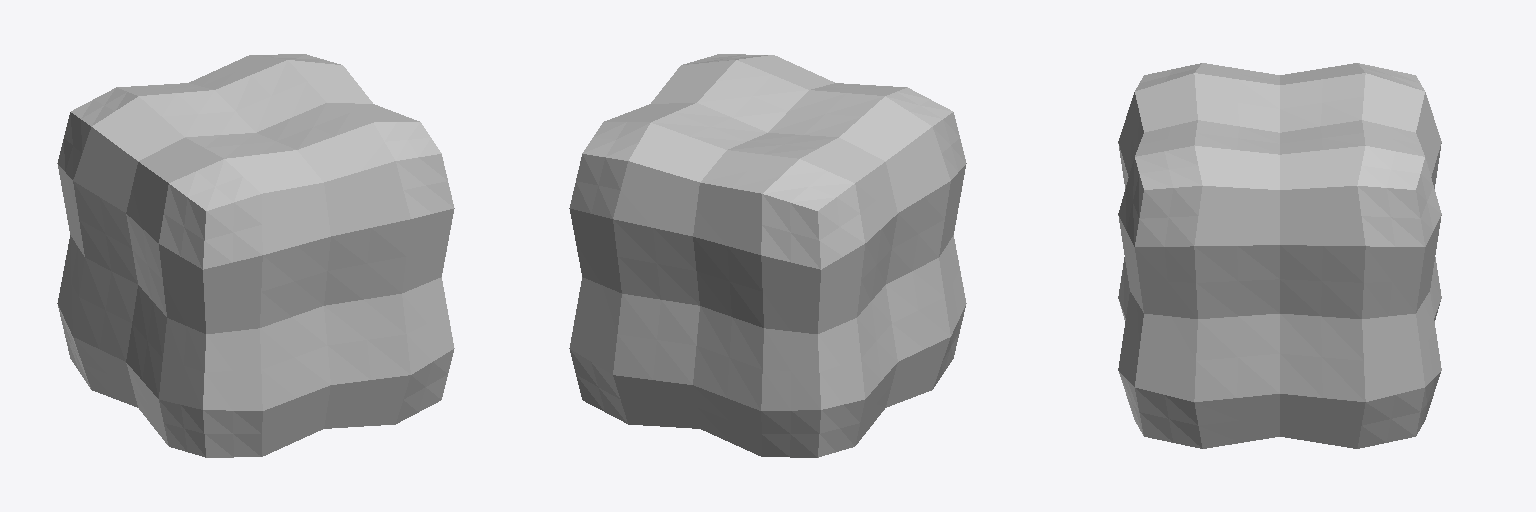
File: Super.obj
3 renders of one model, left to right at view 1: azimuth 30°, elevation 25°; view 2: azimuth 150°, elevation 25°; view 3: azimuth 270°, elevation 25°, orthographic.
Bounding box in the file's own units: 2.38 × 2.38 × 2.38.